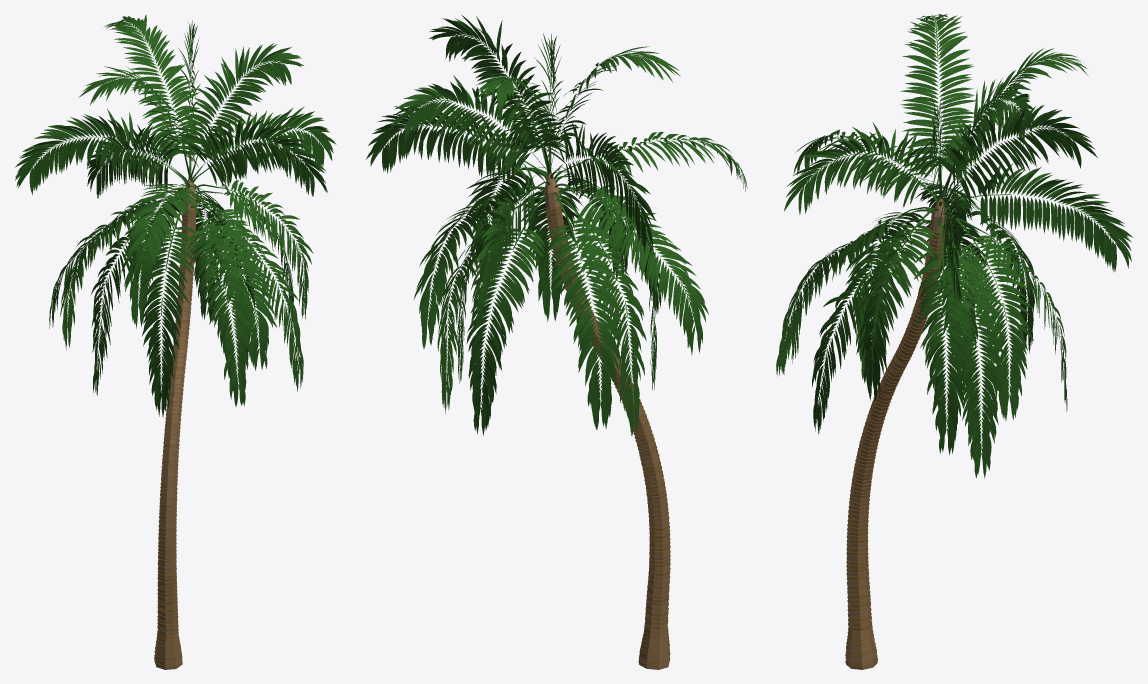
The model's file is coconut-tree.obj.
The picture shows the model from 3 angles, left to right: view 1: azimuth 30°, elevation 25°; view 2: azimuth 150°, elevation 25°; view 3: azimuth 270°, elevation 25°; orthographic projection. The views are drawn at different scales.
Parts seen in each view (by area): view 1: cocos; view 2: cocos; view 3: cocos.
Part boxes in pixels (x1,y1,x2,y2): cocos: (15, 14, 336, 669); cocos: (366, 15, 747, 669); cocos: (776, 14, 1133, 669).
Size of the model in its own units: 427 by 797 by 405.
